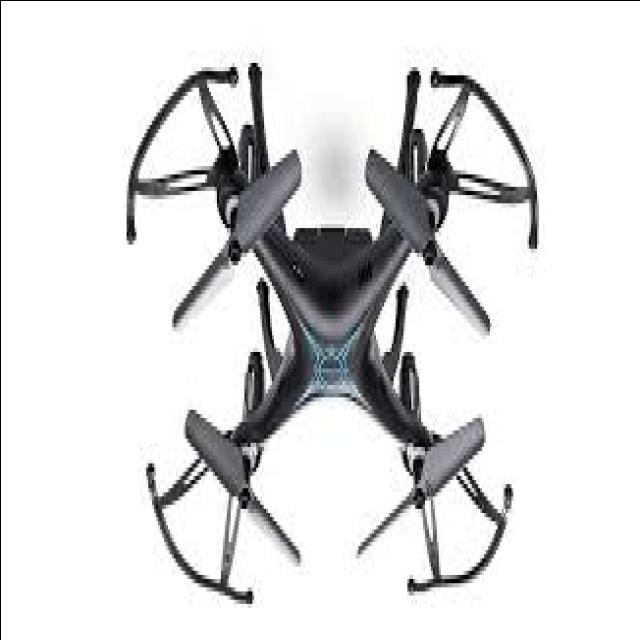drone: (113, 0, 546, 640)
